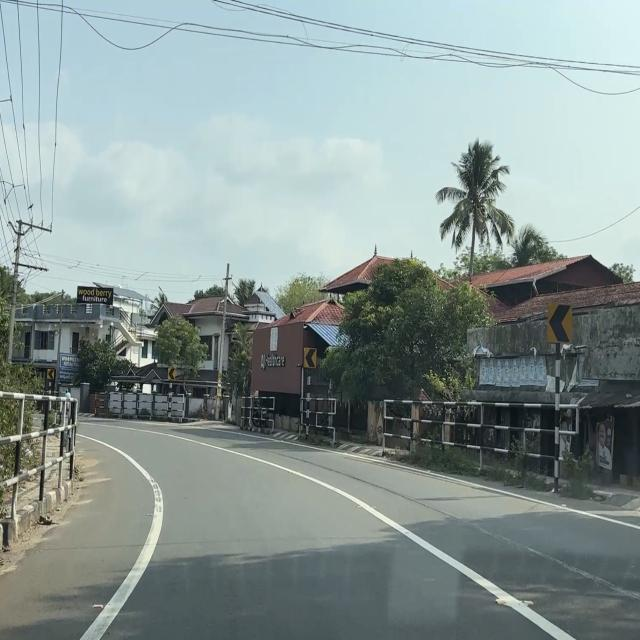TURN_LEFT: (547, 304, 573, 344), (304, 347, 316, 369), (168, 368, 176, 380), (48, 369, 54, 379)
